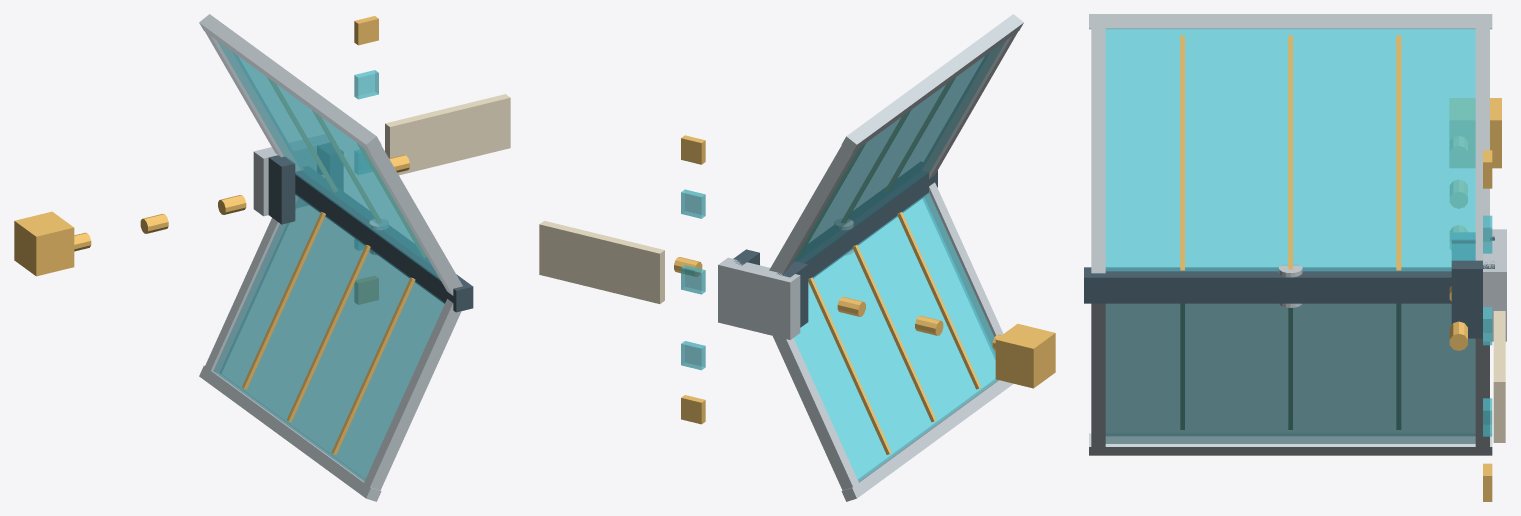
The model's file is RADIANT-CUT-shadow-shield.glb.
3 views of the same model, side by side, from view 1: azimuth 30°, elevation 25°; view 2: azimuth 150°, elevation 25°; view 3: azimuth 270°, elevation 25° (orthographic). The views are drawn at different scales.
Parts seen in each view (by area): view 1: cyan, metal, amber, dark, coupon; view 2: cyan, metal, amber, coupon, dark; view 3: cyan, metal, dark, amber, coupon.
Part boxes in pixels (x1,y1,x2,y2): cyan: (213, 41, 444, 481); metal: (199, 14, 462, 501); amber: (14, 16, 426, 454); dark: (268, 143, 473, 312); coupon: (385, 94, 510, 175); cyan: (681, 41, 1005, 481); metal: (718, 14, 1023, 501); amber: (674, 78, 1055, 454); coupon: (539, 221, 664, 303); dark: (733, 162, 937, 327); cyan: (1105, 28, 1492, 443); metal: (1089, 14, 1506, 455); dark: (1084, 232, 1494, 338); amber: (1180, 35, 1501, 501); coupon: (1493, 311, 1505, 442).
Size of the model in its own units: 0.286 by 0.2028 by 0.176.
